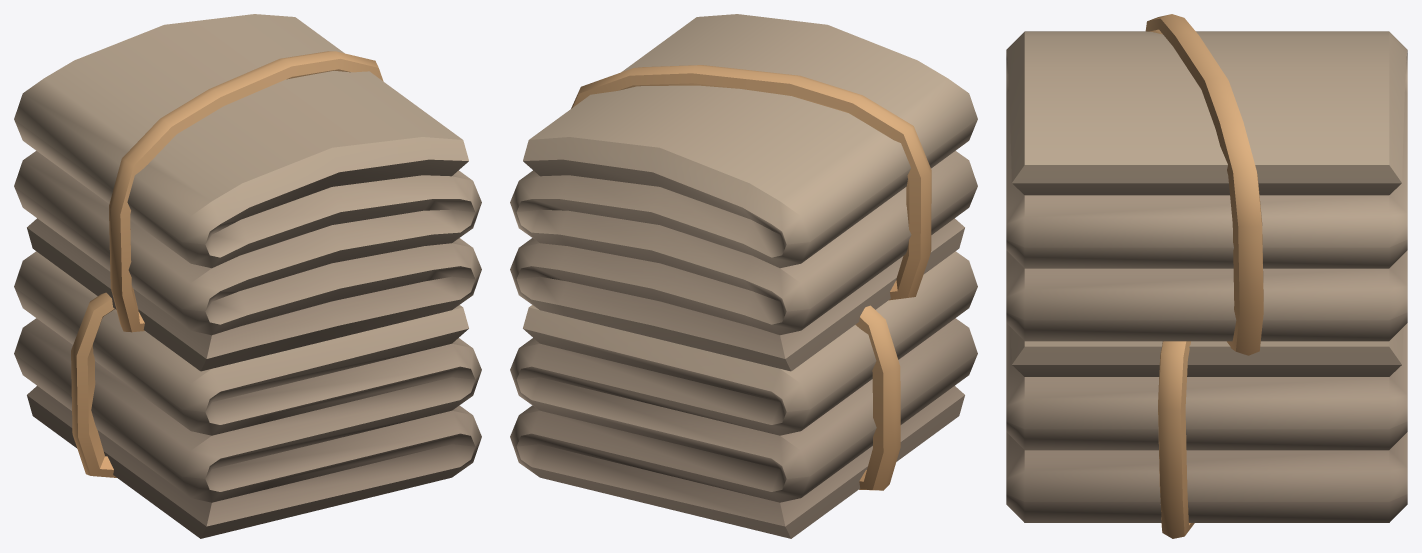
File: textiles_b.glb
3 views of the same model, side by side, from view 1: azimuth 30°, elevation 25°; view 2: azimuth 150°, elevation 25°; view 3: azimuth 270°, elevation 25° (orthographic). The views are drawn at different scales.
Visible parts, largest first — view 1: Textiles_B; view 2: Textiles_B; view 3: Textiles_B.
Part boxes in pixels (x1,y1,x2,y2): Textiles_B: (14,14,481,538); Textiles_B: (510,14,977,538); Textiles_B: (1006,14,1407,538).
Bounding box in the file's own units: 0.4918 × 0.5591 × 0.48.
1 material, 1 textured.
